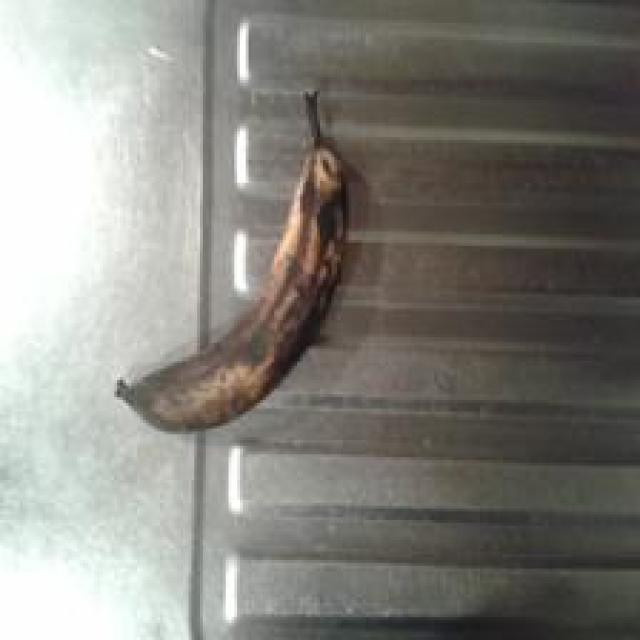Rotten_Banana: (68, 303, 416, 421), (290, 86, 366, 403)
